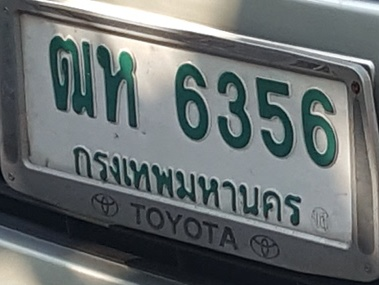txt13: (47, 33, 98, 120)
txt36: (94, 43, 140, 130)
